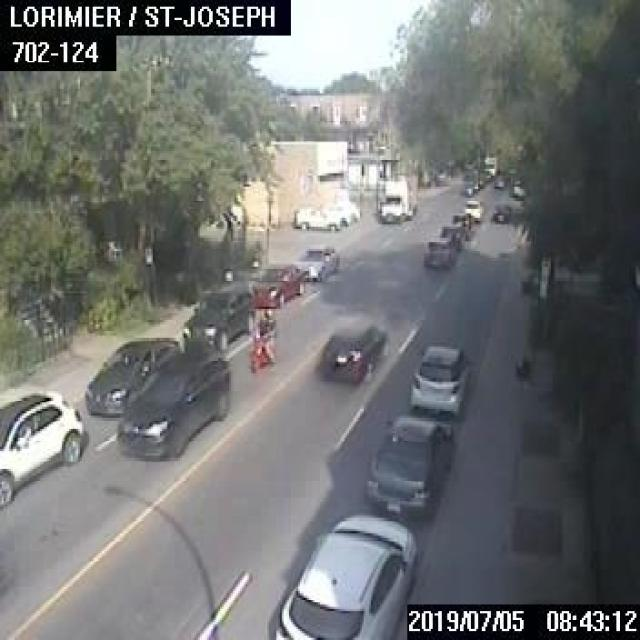vehicle: (273, 514, 417, 638), (114, 349, 228, 459), (0, 391, 87, 509), (365, 413, 452, 518), (86, 337, 180, 413), (179, 286, 254, 350), (410, 342, 470, 417), (318, 319, 384, 383), (250, 261, 307, 304), (377, 173, 417, 222), (248, 307, 272, 368), (296, 246, 337, 276), (293, 204, 337, 231), (422, 236, 454, 269), (450, 211, 472, 238), (439, 224, 463, 248), (463, 198, 482, 220), (491, 202, 509, 220), (509, 178, 526, 195), (483, 154, 495, 174), (492, 174, 502, 187)
